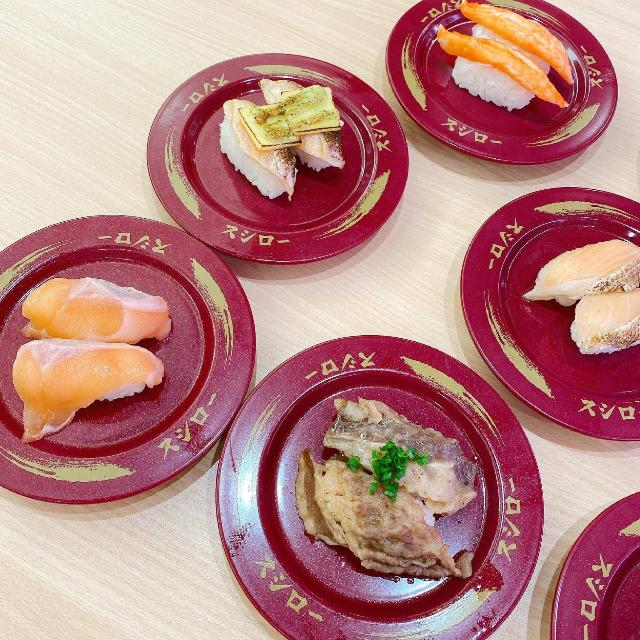janred: (240, 348, 520, 617), (0, 211, 228, 476), (150, 63, 405, 289), (443, 169, 640, 430), (403, 0, 640, 170), (547, 489, 640, 624)
